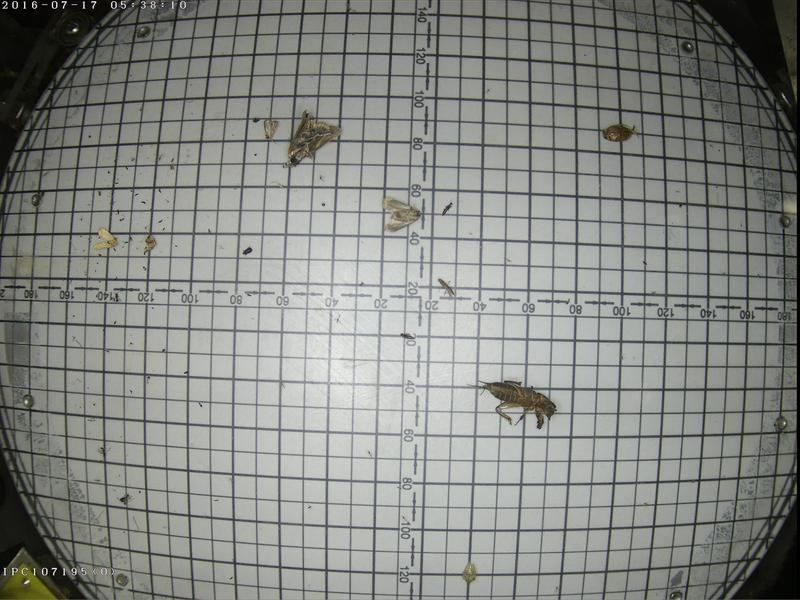Gryllotalpa orientalis: (467, 367, 556, 429)
